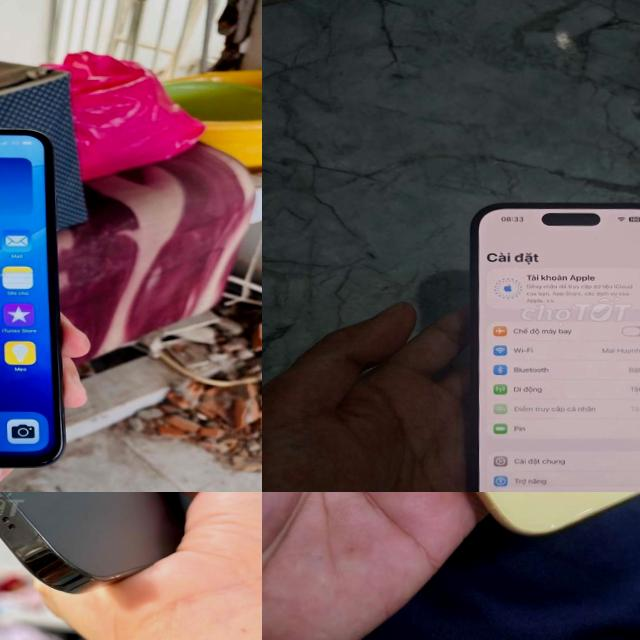gen_11: (262, 492, 640, 543)
gen_14: (456, 185, 640, 492), (0, 492, 231, 610)
gen_x_xs: (0, 105, 97, 481)
scratch: (0, 509, 10, 526)
